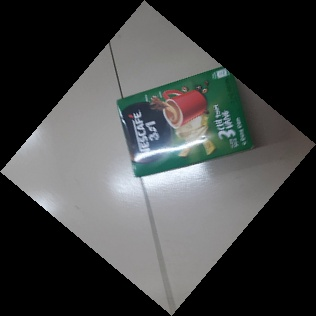Nes Rang: (115, 60, 253, 179)
